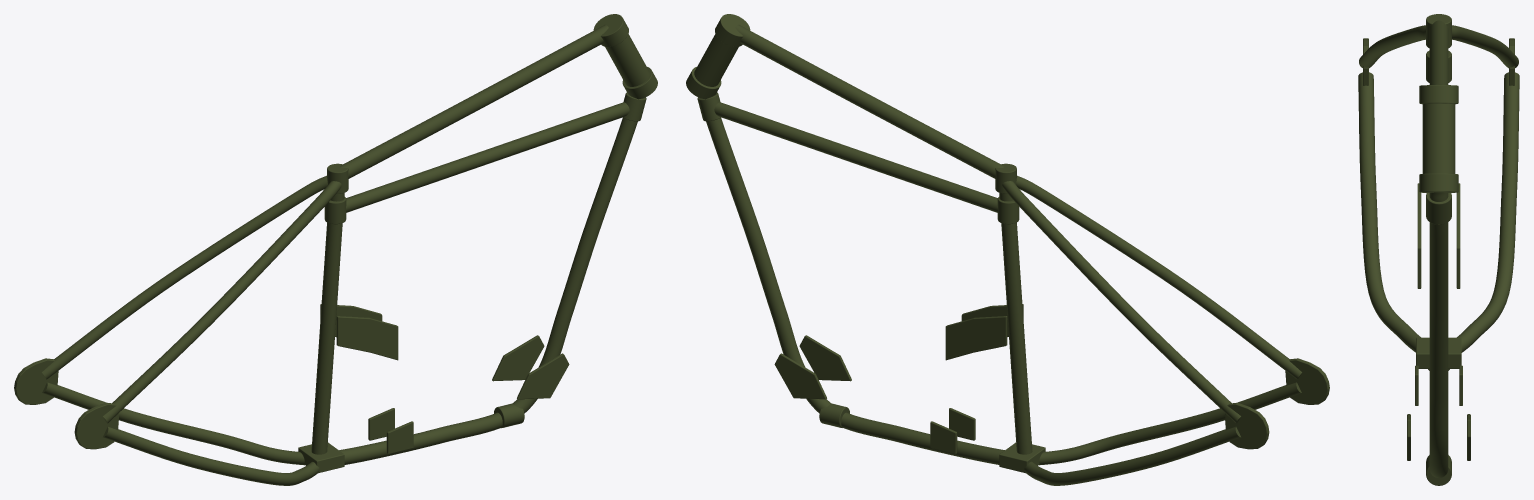
Rendered from bike_vintage_vtwin__frame.glb.
The picture shows the model from 3 angles, left to right: view 1: azimuth 30°, elevation 25°; view 2: azimuth 150°, elevation 25°; view 3: azimuth 270°, elevation 25°; orthographic projection. The views are drawn at different scales.
Visible parts, largest first — view 1: frame_body__frame__tubes, frame_body__frame__lugs, frame_body__frame__head_tube; view 2: frame_body__frame__tubes, frame_body__frame__lugs, frame_body__frame__head_tube; view 3: frame_body__frame__tubes, frame_body__frame__lugs, frame_body__frame__head_tube.
Boxes of the visible parts, x1,y1,x2,y2 form: frame_body__frame__tubes: [42, 24, 637, 485]; frame_body__frame__lugs: [14, 92, 646, 473]; frame_body__frame__head_tube: [593, 14, 657, 99]; frame_body__frame__tubes: [706, 24, 1301, 485]; frame_body__frame__lugs: [697, 92, 1329, 473]; frame_body__frame__head_tube: [686, 14, 750, 99]; frame_body__frame__tubes: [1358, 20, 1519, 477]; frame_body__frame__lugs: [1363, 14, 1514, 485]; frame_body__frame__head_tube: [1419, 85, 1458, 192].
Bounding box in the file's own units: 130 × 78.24 × 24.79.
